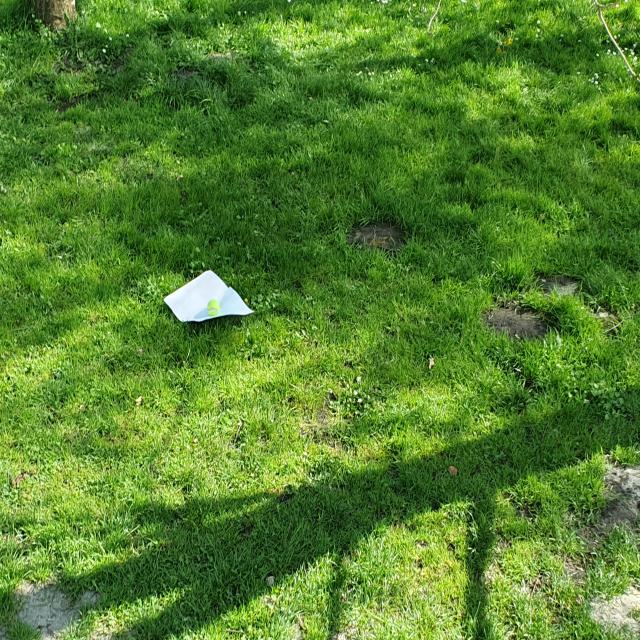green: (207, 299, 220, 316)
